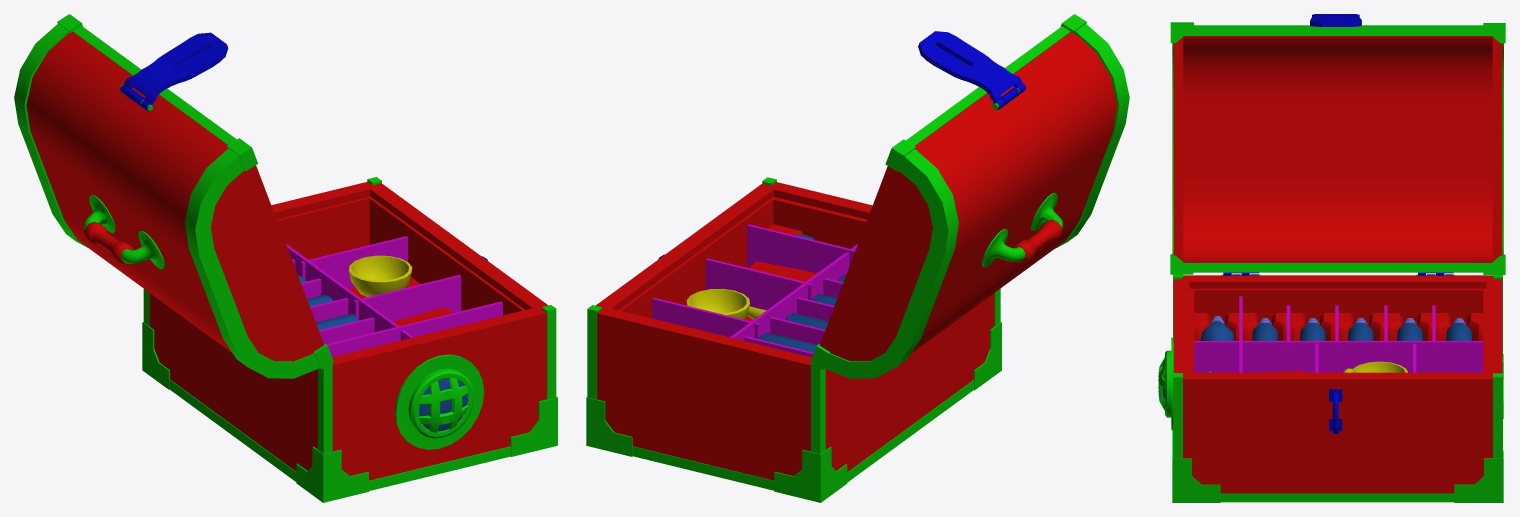
File: Steampunk box prb.fbx
3 views of the same model, side by side, from view 1: azimuth 30°, elevation 25°; view 2: azimuth 150°, elevation 25°; view 3: azimuth 270°, elevation 25° (orthographic). The views are drawn at different scales.
Parts seen in each view (by area): view 1: steampunk_box_open; view 2: steampunk_box_open; view 3: steampunk_box_open.
Part boxes in pixels (x1,y1,x2,y2): steampunk_box_open: [14, 14, 557, 502]; steampunk_box_open: [586, 14, 1129, 502]; steampunk_box_open: [1158, 14, 1505, 502].
Size of the model in its own units: 28.38 by 28.11 by 23.98.
